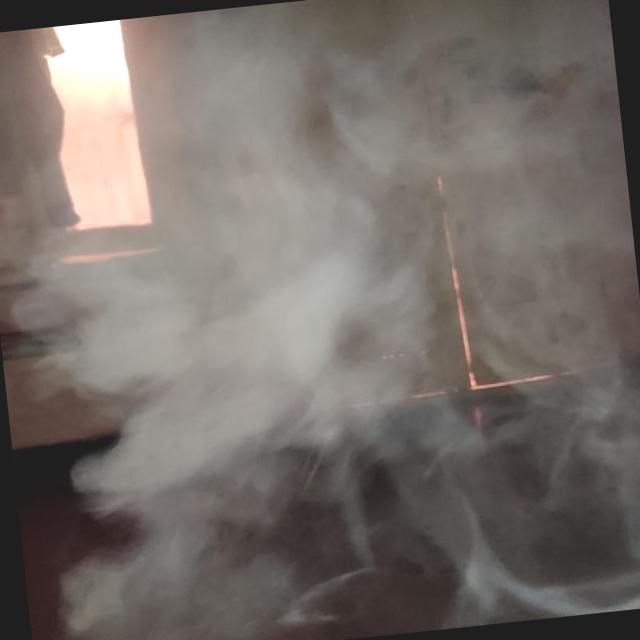smoke: (36, 35, 547, 578)
